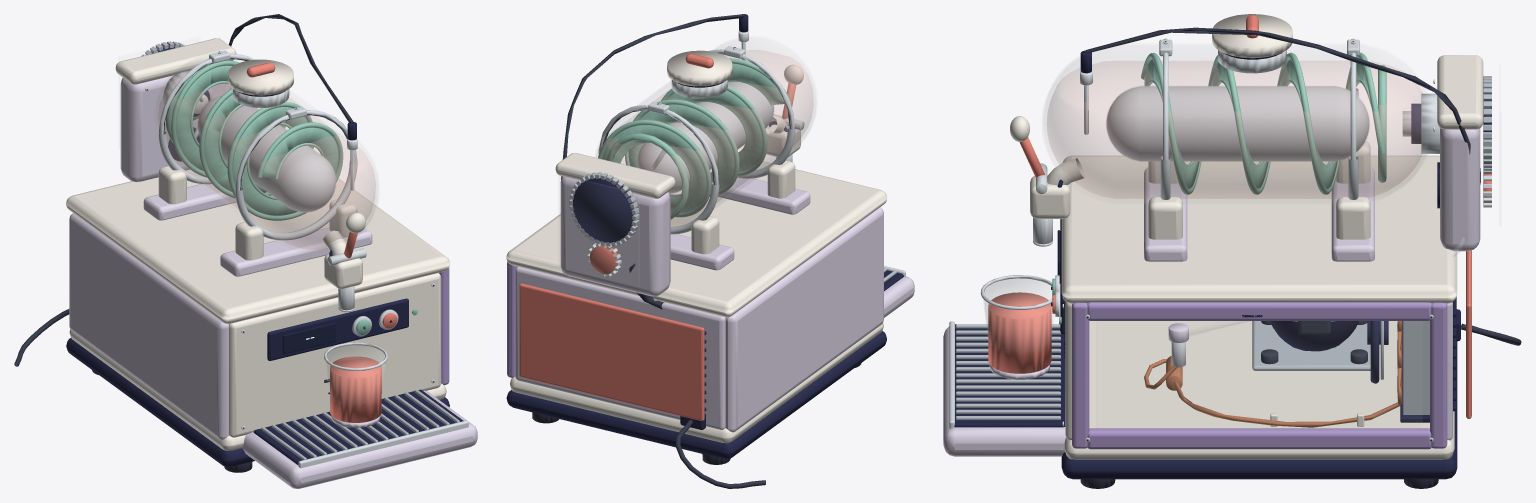
Rendered from slushie-atelier.glb.
The picture shows the model from 3 angles, left to right: view 1: azimuth 30°, elevation 25°; view 2: azimuth 150°, elevation 25°; view 3: azimuth 270°, elevation 25°; orthographic projection. The views are drawn at different scales.
Visible parts, largest first — view 1: MESH_CABINET_Enamel_warm_ivory, MESH_LEFT_PANEL_Enamel_pale_lilac, MESH_DRINK_VOLUME_Drink_translucent_coral, MESH_FRONT_PANEL_Enamel_warm_ivory, MESH_AUGER_PIVOT_Polymer_soft_mint, MESH_BOWL_Glass_optically_clear_4mm, MESH_DRIP_TRAY_Enamel_pale_lilac, MESH_EVAPORATOR_DRUM_Metal_satin_aluminium, MESH_ICE_SHELL_Ice_pale_shell, MESH_DRIVE_HOUSING_Enamel_pale_lilac, MESH_CABINET_Enamel_pale_lilac, MESH_DRIP_TRAY_Paint_deep_assembl_navy (+16 smaller); view 2: MESH_CABINET_Enamel_warm_ivory, MESH_LEFT_PANEL_Enamel_pale_lilac, MESH_VENT_OBSTRUCTION_Polymer_warm_coral, MESH_DRINK_VOLUME_Drink_translucent_coral, MESH_AUGER_PIVOT_Polymer_soft_mint, MESH_DRIVE_HOUSING_Enamel_pale_lilac, MESH_REAR_PANEL_Enamel_pale_lilac, MESH_CABINET_Paint_deep_assembl_navy, MESH_BOWL_Glass_optically_clear_4mm, MESH_EVAPORATOR_DRUM_Metal_satin_aluminium, MESH_CABINET_Enamel_pale_lilac, MESH_AUGER_GEAR_Paint_deep_assembl_navy (+12 smaller); view 3: MESH_CABINET_Enamel_warm_ivory, MESH_DRINK_VOLUME_Drink_translucent_coral, MESH_BOWL_Glass_optically_clear_4mm, MESH_SERVICE_PANEL_Enamel_muted_lilac, MESH_EVAPORATOR_DRUM_Metal_satin_aluminium, MESH_ICE_SHELL_Ice_pale_shell, MESH_CABINET_Paint_deep_assembl_navy, MESH_AUGER_PIVOT_Polymer_soft_mint, MESH_DRIP_TRAY_Metal_satin_aluminium, MESH_DRIVE_HOUSING_Enamel_pale_lilac, MESH_SERVING_CUP_Polymer_warm_coral, MESH_DRIP_TRAY_Enamel_pale_lilac (+23 smaller).
Boxes of the visible parts, box(x1,y1,x2,y2) form: MESH_CABINET_Enamel_warm_ivory: box(66, 166, 450, 450); MESH_LEFT_PANEL_Enamel_pale_lilac: box(69, 213, 229, 439); MESH_DRINK_VOLUME_Drink_translucent_coral: box(158, 74, 375, 249); MESH_FRONT_PANEL_Enamel_warm_ivory: box(229, 273, 441, 437); MESH_AUGER_PIVOT_Polymer_soft_mint: box(166, 60, 343, 220); MESH_BOWL_Glass_optically_clear_4mm: box(155, 55, 378, 252); MESH_DRIP_TRAY_Enamel_pale_lilac: box(242, 390, 477, 488); MESH_EVAPORATOR_DRUM_Metal_satin_aluminium: box(198, 95, 335, 212); MESH_ICE_SHELL_Ice_pale_shell: box(197, 95, 335, 212); MESH_DRIVE_HOUSING_Enamel_pale_lilac: box(120, 75, 231, 181); MESH_CABINET_Enamel_pale_lilac: box(143, 184, 372, 276); MESH_DRIP_TRAY_Paint_deep_assembl_navy: box(253, 389, 463, 464); MESH_CABINET_Enamel_warm_ivory: box(506, 160, 887, 443); MESH_LEFT_PANEL_Enamel_pale_lilac: box(725, 207, 883, 432); MESH_VENT_OBSTRUCTION_Polymer_warm_coral: box(519, 283, 704, 420); MESH_DRINK_VOLUME_Drink_translucent_coral: box(599, 50, 813, 229); MESH_AUGER_PIVOT_Polymer_soft_mint: box(598, 58, 791, 219); MESH_DRIVE_HOUSING_Enamel_pale_lilac: box(560, 176, 670, 296); MESH_REAR_PANEL_Enamel_pale_lilac: box(515, 266, 725, 429); MESH_CABINET_Paint_deep_assembl_navy: box(506, 331, 886, 459); MESH_BOWL_Glass_optically_clear_4mm: box(596, 37, 816, 232); MESH_EVAPORATOR_DRUM_Metal_satin_aluminium: box(637, 81, 773, 193); MESH_CABINET_Enamel_pale_lilac: box(670, 169, 810, 270); MESH_AUGER_GEAR_Paint_deep_assembl_navy: box(572, 177, 633, 243); MESH_CABINET_Enamel_warm_ivory: box(1061, 141, 1457, 459); MESH_DRINK_VOLUME_Drink_translucent_coral: box(1047, 61, 1422, 198); MESH_BOWL_Glass_optically_clear_4mm: box(1043, 45, 1426, 202); MESH_SERVICE_PANEL_Enamel_muted_lilac: box(1072, 302, 1447, 449); MESH_EVAPORATOR_DRUM_Metal_satin_aluminium: box(1106, 86, 1369, 161); MESH_ICE_SHELL_Ice_pale_shell: box(1106, 86, 1369, 161); MESH_CABINET_Paint_deep_assembl_navy: box(1061, 103, 1460, 479); MESH_AUGER_PIVOT_Polymer_soft_mint: box(1141, 52, 1386, 194); MESH_DRIP_TRAY_Metal_satin_aluminium: box(955, 324, 1060, 420); MESH_DRIVE_HOUSING_Enamel_pale_lilac: box(1440, 128, 1480, 251); MESH_SERVING_CUP_Polymer_warm_coral: box(988, 292, 1051, 373); MESH_DRIP_TRAY_Enamel_pale_lilac: box(943, 326, 1065, 456).
Size of the model in its own units: 0.2699 by 0.3261 by 0.4004.
